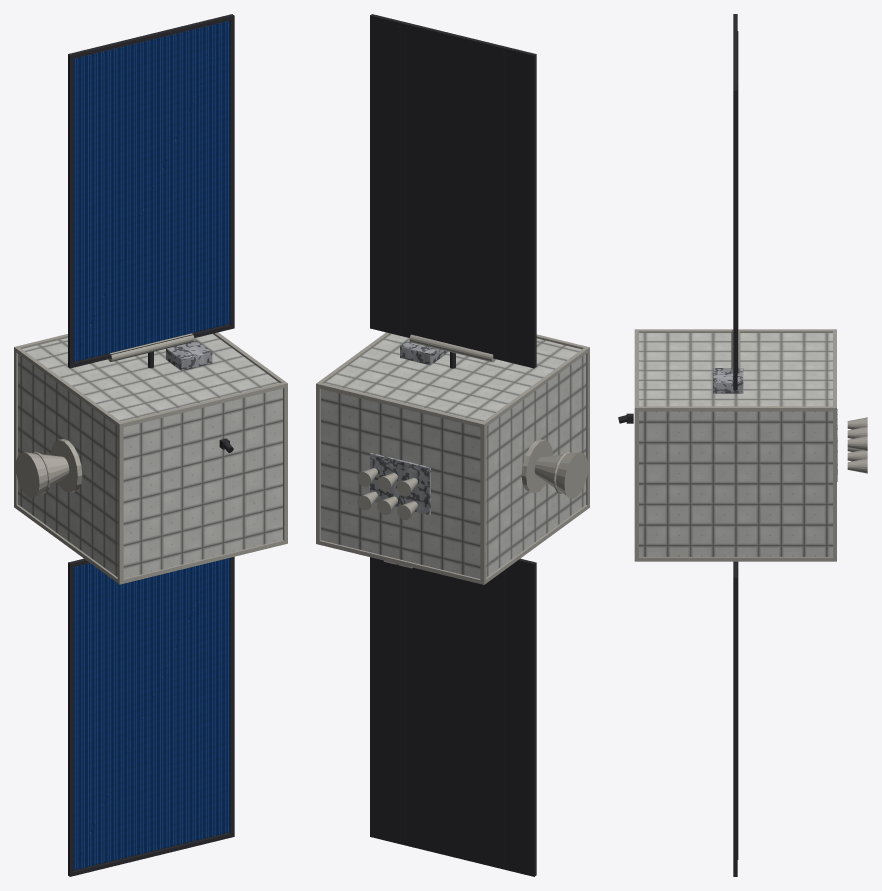
The model's file is client.medium.glb.
3 views of the same model, side by side, from view 1: azimuth 30°, elevation 25°; view 2: azimuth 150°, elevation 25°; view 3: azimuth 270°, elevation 25° (orthographic). The views are drawn at different scales.
Parts seen in each view (by area): view 1: solar_wing_r, solar_wing_l, bus, bus_frame, servicing_0_apogee_nozzle_apogee_nozzle_exit, equip_0, solar_hinge_r; view 2: solar_wing_r, solar_wing_l, bus, bus_frame, payload_0_feed_array, servicing_0_apogee_nozzle_apogee_nozzle_exit, equip_0, solar_hinge_r; view 3: bus, bus_frame, solar_wing_r, solar_wing_l, payload_0_feed_array, equip_0.
Boxes of the visible parts, bbox=[...] form: solar_wing_r: bbox=[68, 14, 234, 368]; solar_wing_l: bbox=[68, 556, 234, 876]; bus: bbox=[18, 334, 282, 578]; bus_frame: bbox=[14, 332, 287, 584]; servicing_0_apogee_nozzle_apogee_nozzle_exit: bbox=[15, 439, 82, 498]; equip_0: bbox=[166, 340, 212, 370]; solar_hinge_r: bbox=[108, 333, 194, 361]; solar_wing_r: bbox=[370, 14, 536, 368]; solar_wing_l: bbox=[370, 557, 536, 876]; bus: bbox=[321, 334, 585, 578]; bus_frame: bbox=[316, 332, 589, 584]; payload_0_feed_array: bbox=[357, 453, 430, 519]; servicing_0_apogee_nozzle_apogee_nozzle_exit: bbox=[521, 439, 587, 498]; equip_0: bbox=[400, 339, 446, 365]; solar_hinge_r: bbox=[409, 334, 495, 362]; bus: bbox=[639, 333, 832, 556]; bus_frame: bbox=[634, 329, 836, 561]; solar_wing_r: bbox=[733, 14, 738, 390]; solar_wing_l: bbox=[733, 561, 738, 876]; payload_0_feed_array: bbox=[837, 409, 867, 481]; equip_0: bbox=[713, 368, 743, 393].
Bounding box in the file's own units: 2.78 × 10.5 × 3.02.
5 materials, 3 textured.
